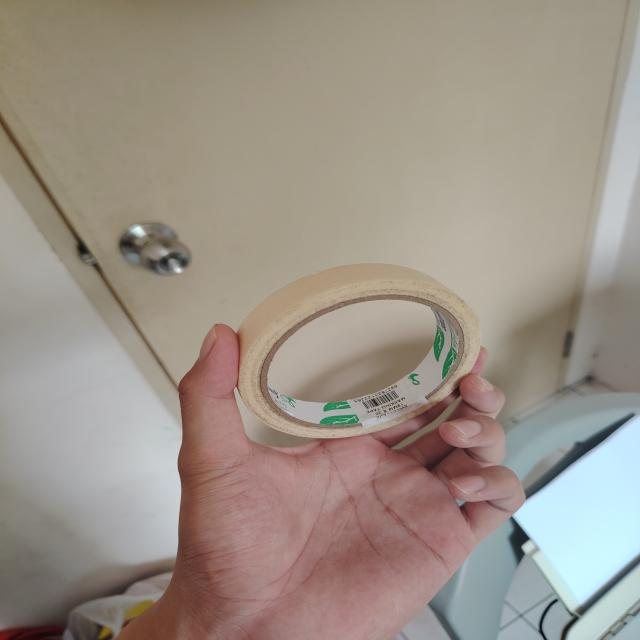tape: (237, 264, 481, 438)
